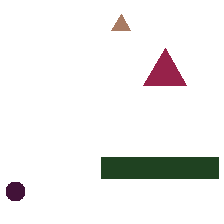circle: (6, 182, 24, 200)
rectangle: (101, 157, 218, 178)
triangle: (143, 48, 186, 85), (111, 14, 130, 30)
